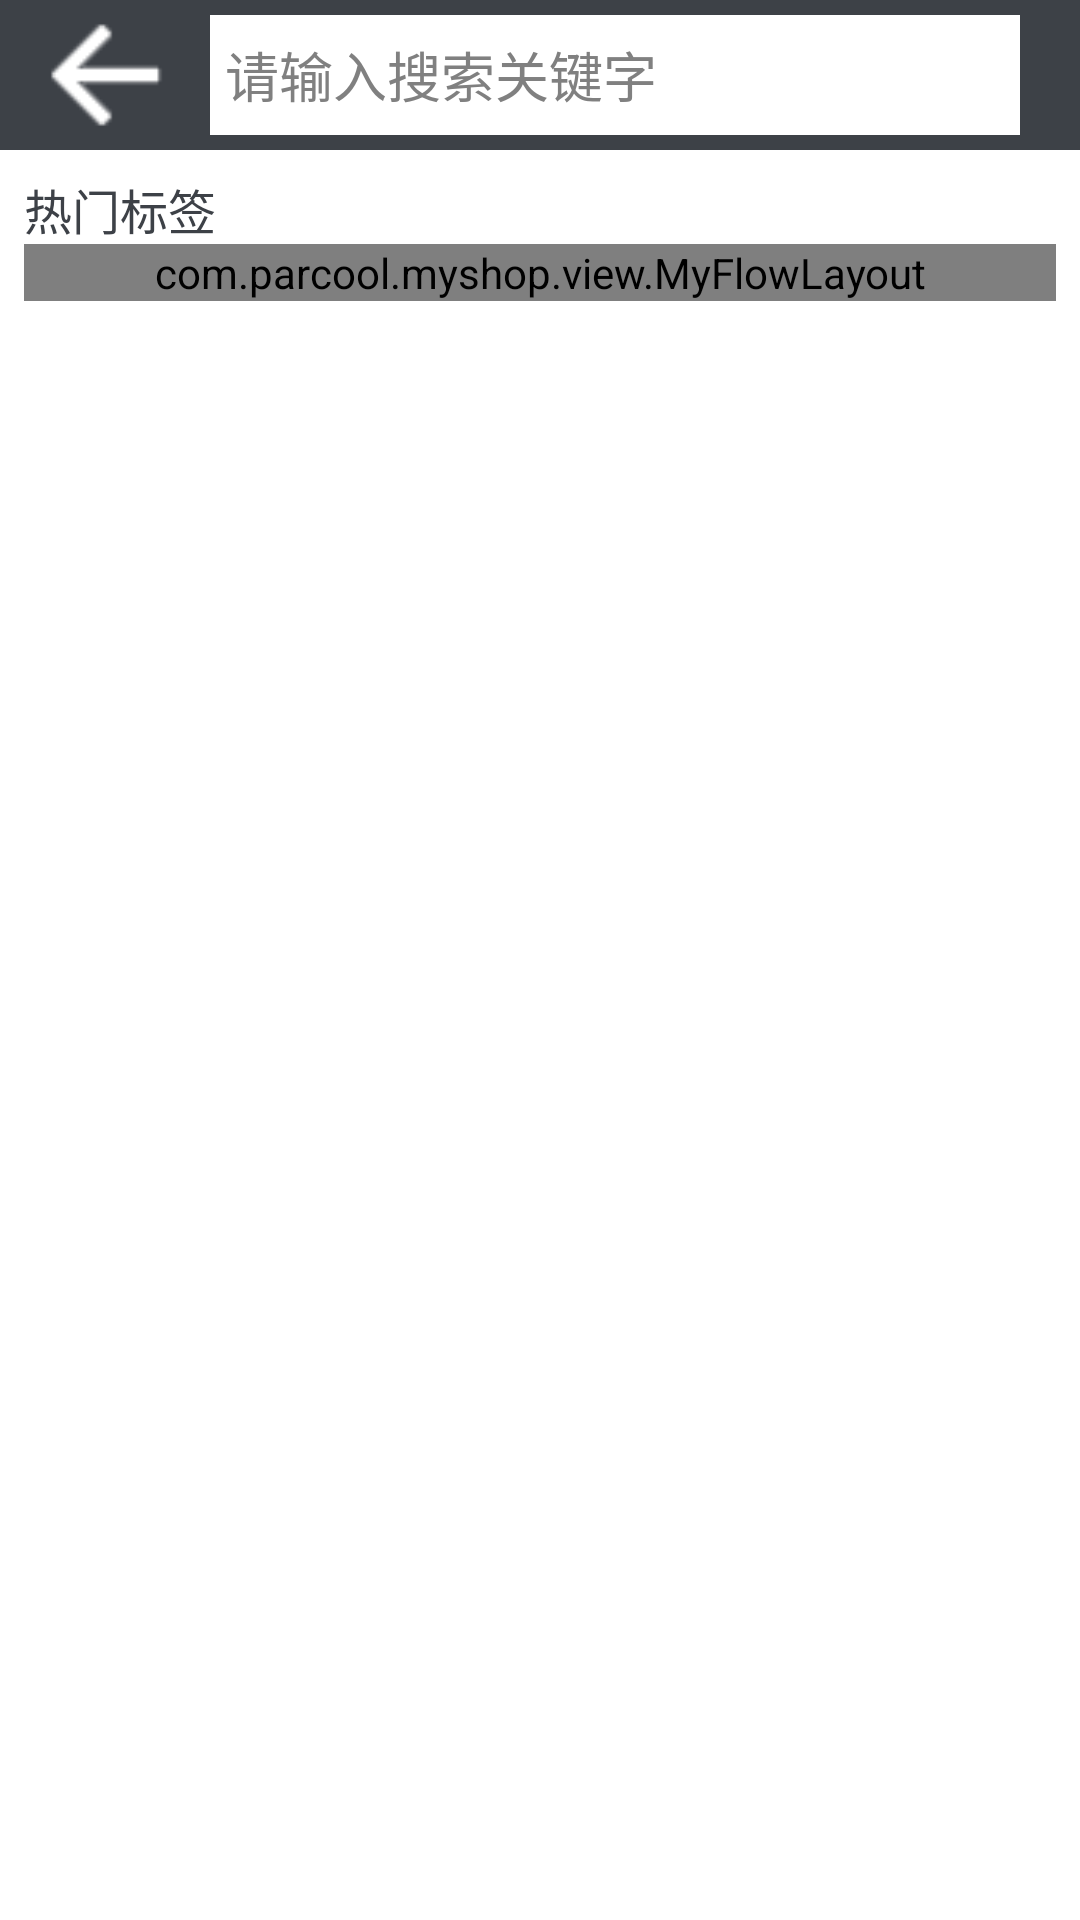

Point at icon controls on the screen. Image size 1080×1920, points as (x=x, y=y).
back: (x=105, y=75)
